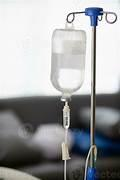Iv_Bottle: (51, 29, 85, 99)
